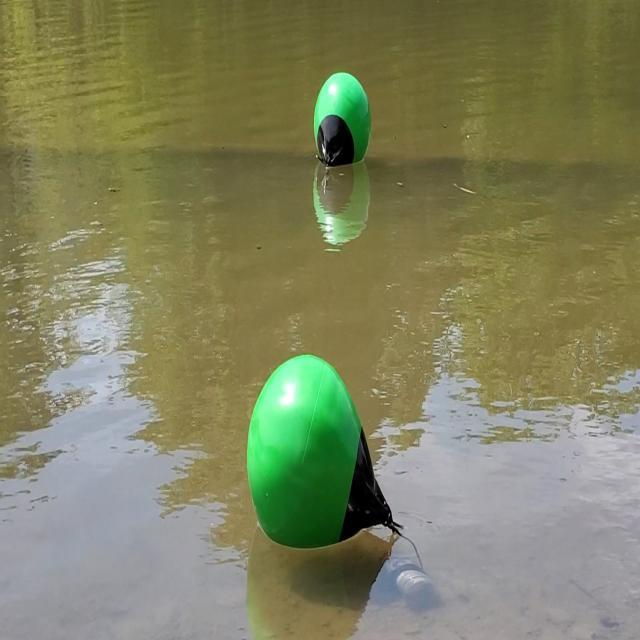buoy: (245, 352, 395, 552), (312, 70, 372, 178)
